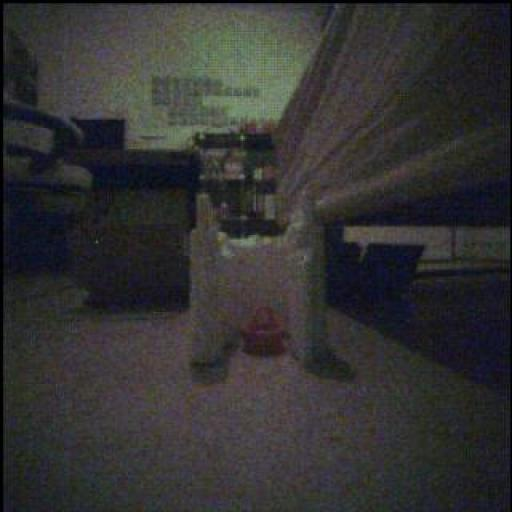basket: (243, 308, 288, 356)
